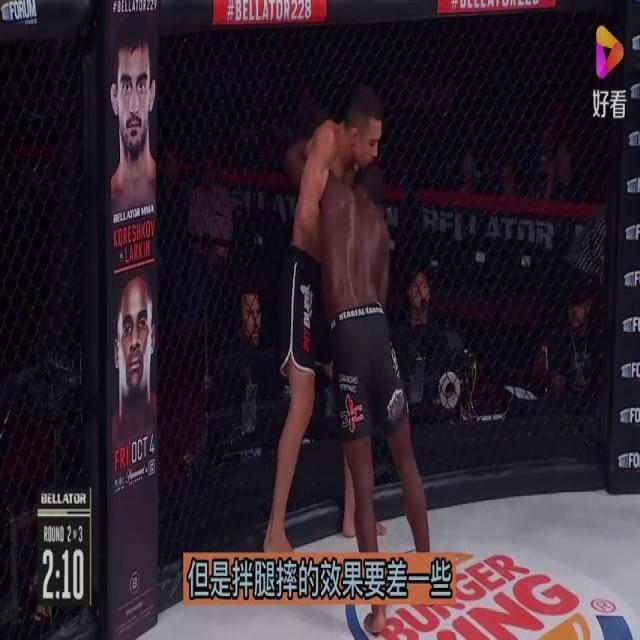fight: (263, 81, 431, 636)
